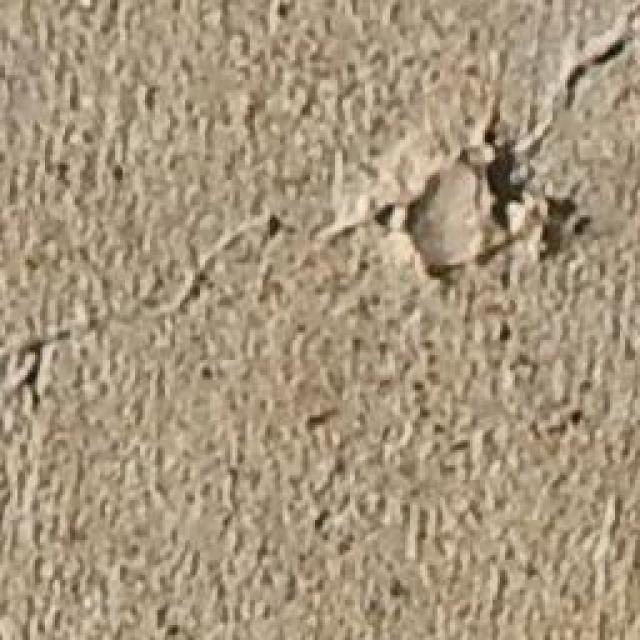concrete-crack: (18, 26, 640, 405)
